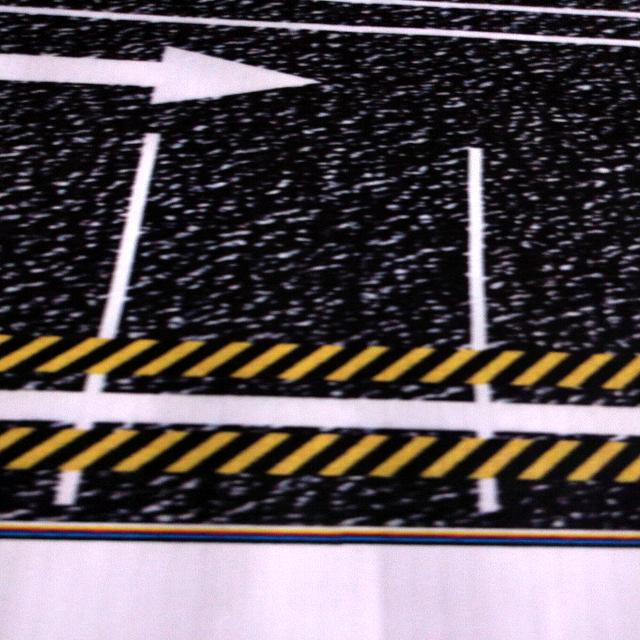slots: (119, 133, 468, 345)
